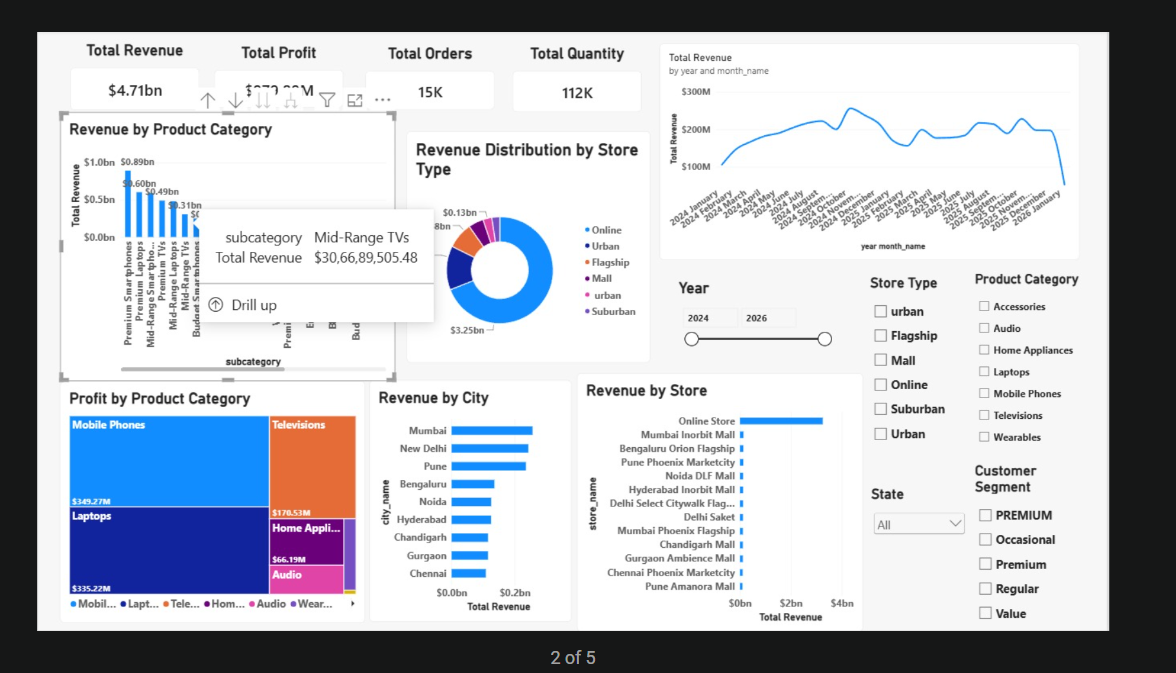

The page's visual inventory and layout, read from the dashboard file:
{"tool":"powerbi","page":{"name":"Retail Sales Dashboard","canvas":[1920,1080],"ordinal":1},"visuals":[{"type":"cardVisual","fields":{"Data":["Fact Sales.Total Revenue"]},"box":[10.3,0,282,172.9],"z":0},{"type":"cardVisual","fields":{"Data":["Fact Sales.Total Profit"]},"box":[578.4,0,279.9,172.9],"z":1000},{"type":"cardVisual","fields":{"Data":["Fact Sales.Total Orders"]},"box":[858.3,0,279.9,172.9],"z":2000},{"type":"cardVisual","fields":{"Data":["Fact Sales.Total quantity"]},"box":[292.3,0,286.1,172.9],"z":3000},{"type":"clusteredColumnChart","title":"Revenue by Product Category","fields":{"Category":["Dim Product.category","Dim Product.subcategory"],"Y":["Fact Sales.Total Revenue"]},"box":[0,172.9,611.3,430.2],"z":4000},{"type":"treemap","title":"Profit by Product Category","fields":{"Group":["Dim Product.category"],"Values":["Fact Sales.Total Profit"]},"box":[10.9,628,510.3,452.4],"z":5000},{"type":"clusteredBarChart","title":"Revenue by Store","fields":{"Category":["Dim Store.store_name"],"Y":["Fact Sales.Total Revenue"]},"box":[803.5,617.1,334.8,443.4],"z":6000},{"type":"lineChart","title":" Monthly Revenue Trend","fields":{"Category":["Dim Date.year","Dim Date.month_name"],"Y":["Fact Sales.Total Revenue"]},"box":[1203.4,0,705.8,347.5],"z":7000},{"type":"donutChart","title":"Revenue Distribution by Store Type","fields":{"Category":["Dim Store.store_type"],"Y":["Fact Sales.Total Revenue"]},"box":[636,198,550,412],"z":8000},{"type":"clusteredBarChart","title":"Revenue by City","fields":{"Category":["Dim City.city_name"],"Y":["Fact Sales.Total Revenue"]},"box":[521.2,618.9,282.3,443.4],"z":9000},{"type":"slicer","title":"Product category","fields":{"Values":["Dim Product.category"]},"box":[1695.7,347.5,212,111.1],"z":10000},{"type":"slicer","title":"Store type","fields":{"Values":["Dim Store.store_type"]},"box":[1532.8,347.5,148.2,111.1],"z":11000},{"type":"slicer","title":"Customer segment","fields":{"Values":["Dim Customer.customer_segment"]},"box":[1693.8,459.7,212,94.7],"z":12000},{"type":"slicer","title":"State","fields":{"Values":["Dim State.state_name"]},"box":[1532.8,459.7,148.2,94.7],"z":13000},{"type":"slicer","title":"Header","fields":{"Values":["Dim Date.year"]},"box":[1203.4,347.5,306,206],"z":14000},{"type":"tableEx","title":"Store Performance","fields":{"Values":["Dim Store.store_name","Fact Sales.Total Profit","Fact Sales.Total Revenue","SparklineData(Fact Sales.Total Revenue_[Dim Date.full_date])"]},"box":[1138.3,604.4,781.8,468.7],"z":14001}]}

Visuals, with their boxes in screenshot pixels (x1, y1, x2, y2), scaled from the page's 1920x1080 canvas onto the 1176x673 screenshot:
cardVisual - Fact Sales.Total Revenue: 6/0/179/108
cardVisual - Fact Sales.Total Profit: 354/0/526/108
cardVisual - Fact Sales.Total Orders: 526/0/697/108
cardVisual - Fact Sales.Total quantity: 179/0/354/108
"Revenue by Product Category" clusteredColumnChart: 0/108/374/376
"Profit by Product Category" treemap: 7/391/319/672
"Revenue by Store" clusteredBarChart: 492/385/697/661
" Monthly Revenue Trend" lineChart: 737/0/1169/217
"Revenue Distribution by Store Type" donutChart: 390/123/726/380
"Revenue by City" clusteredBarChart: 319/386/492/662
"Product category" slicer: 1039/217/1168/286
"Store type" slicer: 939/217/1030/286
"Customer segment" slicer: 1037/286/1167/345
"State" slicer: 939/286/1030/345
"Header" slicer: 737/217/925/345
"Store Performance" tableEx: 697/377/1175/669
